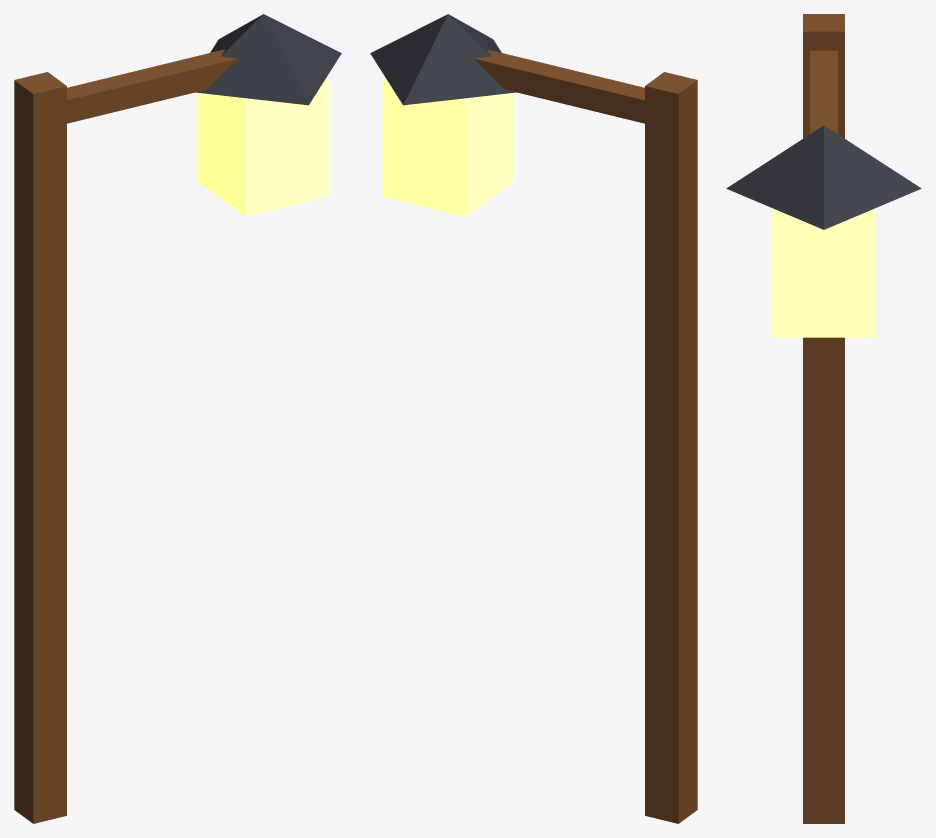
The model's file is sky_sky_dock_lantern.glb.
The picture shows the model from 3 angles, left to right: view 1: azimuth 30°, elevation 25°; view 2: azimuth 150°, elevation 25°; view 3: azimuth 270°, elevation 25°; orthographic projection. The views are drawn at different scales.
Visible parts, largest first — view 1: sky_dock_lantern; view 2: sky_dock_lantern; view 3: sky_dock_lantern.
Boxes of the visible parts, x1,y1,x2,y2 form: sky_dock_lantern: (14,14,341,823); sky_dock_lantern: (370,14,697,823); sky_dock_lantern: (726,14,921,823).
Bounding box in the file's own units: 1.14 × 2.55 × 0.56.
